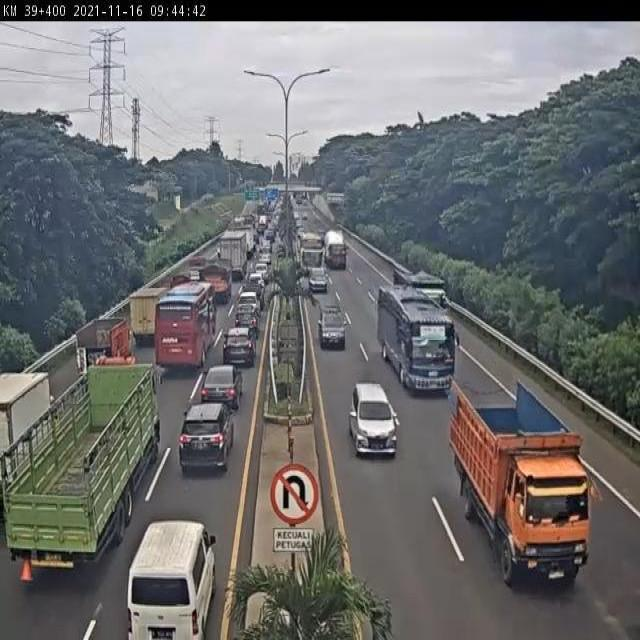car: (129, 520, 216, 640), (178, 408, 233, 476), (348, 382, 396, 458), (200, 369, 241, 411), (317, 302, 347, 350), (221, 329, 253, 368), (232, 308, 259, 335), (236, 288, 261, 316)
truck: (4, 364, 161, 584), (450, 378, 604, 594), (375, 287, 458, 395), (156, 287, 213, 371), (391, 267, 450, 332), (72, 320, 131, 375), (128, 287, 166, 345), (196, 264, 232, 304)
